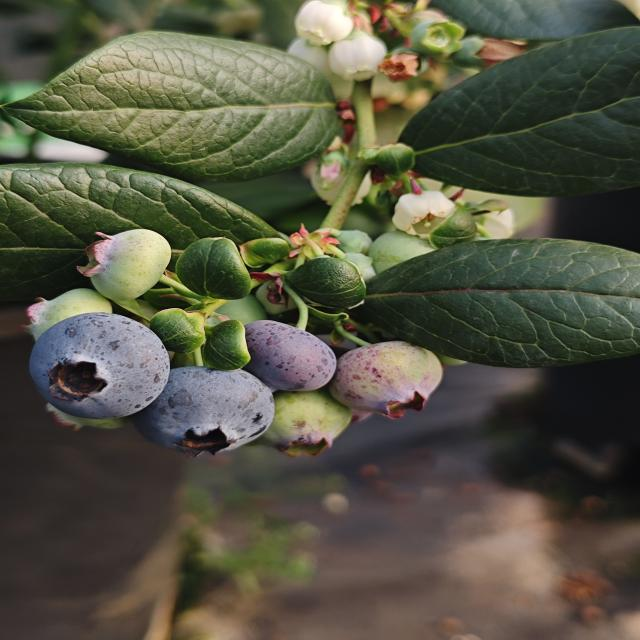ripe: (27, 310, 172, 422), (133, 364, 277, 460), (240, 318, 338, 393)
